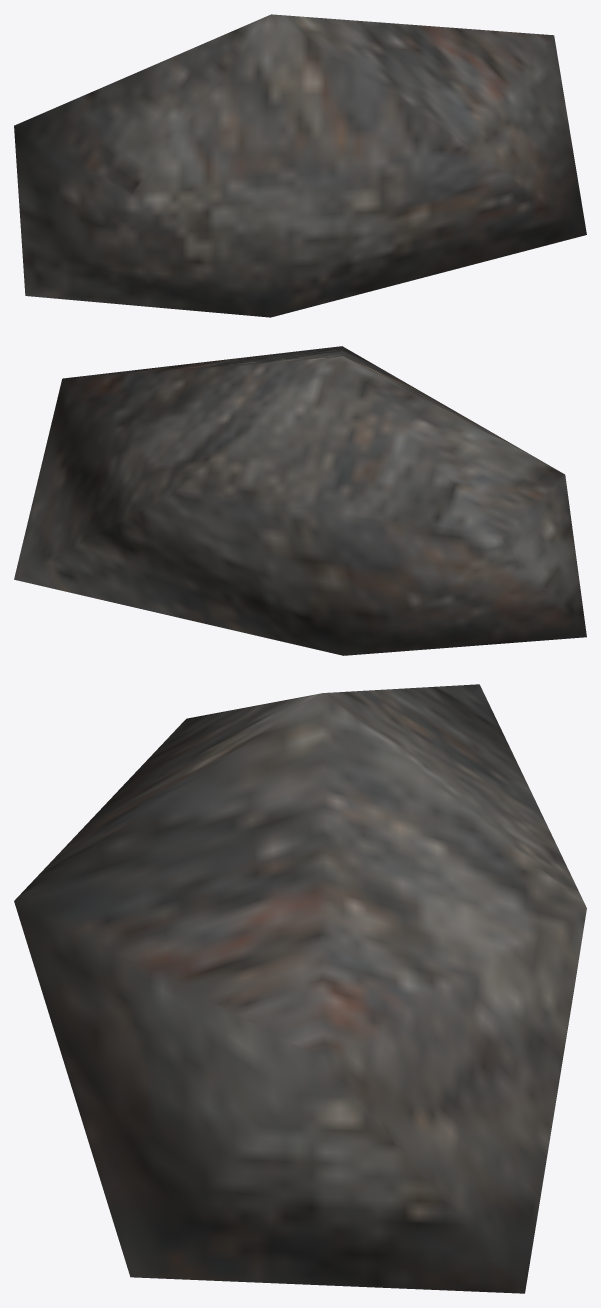
File: SM_HarvestRock_Chip05.fbx
3 views of the same model, one above another, from view 1: azimuth 30°, elevation 25°; view 2: azimuth 150°, elevation 25°; view 3: azimuth 270°, elevation 25° (orthographic). The views are drawn at different scales.
Parts seen in each view (by area): view 1: SM_HarvestRock_Chip05; view 2: SM_HarvestRock_Chip05; view 3: SM_HarvestRock_Chip05.
Boxes of the visible parts, x1,y1,x2,y2 form: SM_HarvestRock_Chip05: (14, 14, 586, 317); SM_HarvestRock_Chip05: (14, 346, 586, 655); SM_HarvestRock_Chip05: (14, 684, 586, 1293).
Size of the model in its own units: 48.96 by 28.62 by 26.43.
Materials: 1 (1 with a texture image).
